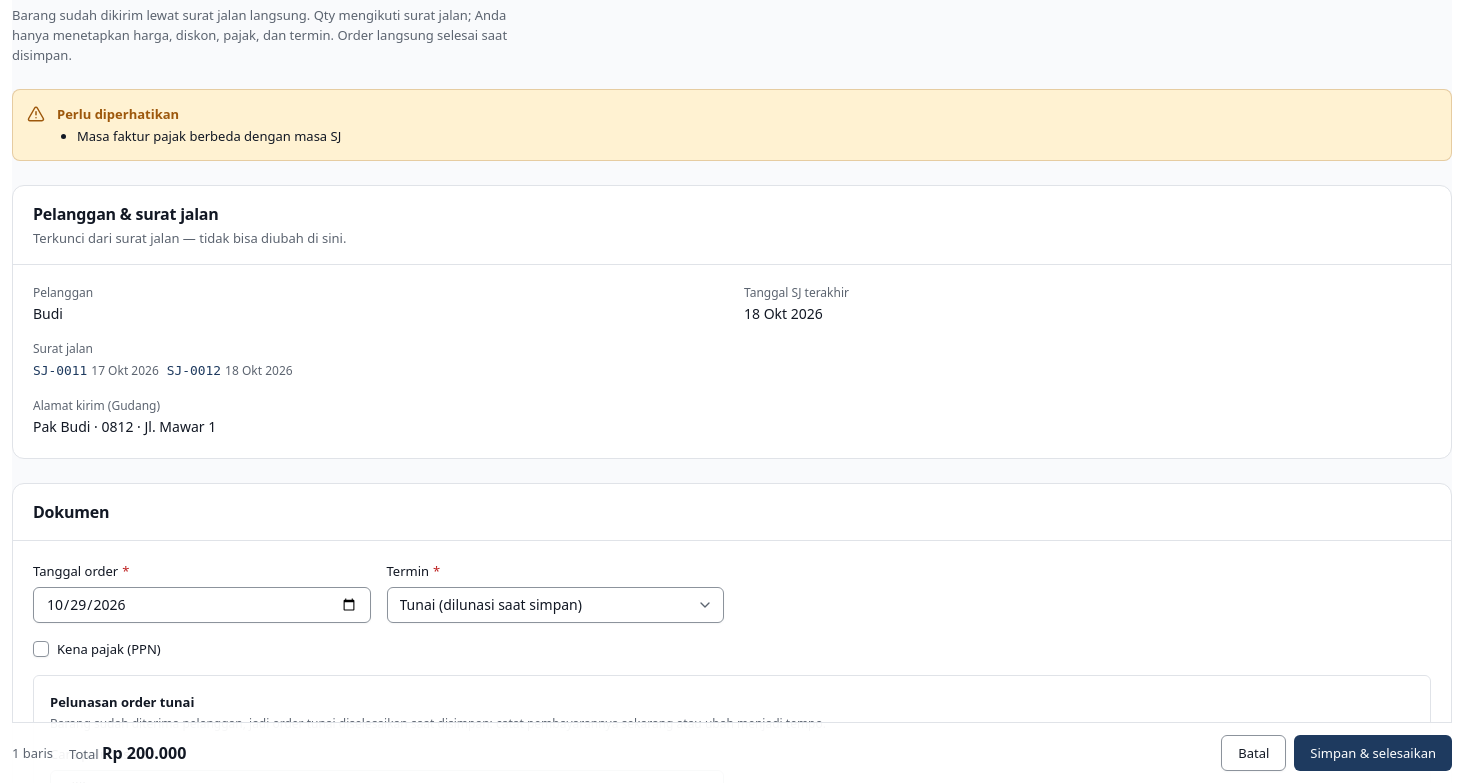
Test: form order jual — mode dari surat jalan (ADR-0022 W-06) › kena pajak menyarankan tanggal faktur pajak = tanggal SJ
Expected: the text "Budi" is shown, [33,304,63,322]
Click the checkbox named "Kena pajak (PPN)".
click(41, 648)  # box [33,640,49,656]
(page scrolled)
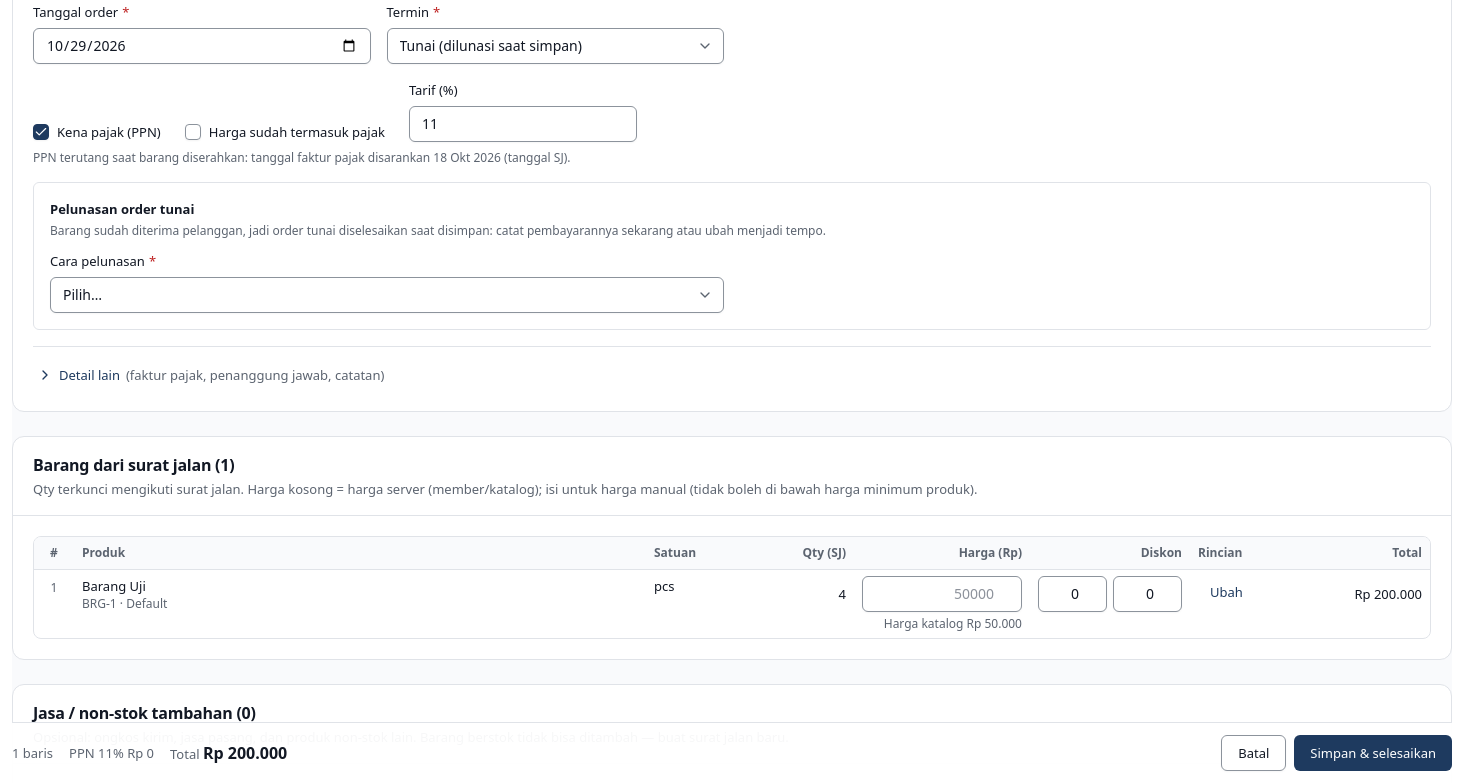
Click the button "Detail lain (faktur pajak, penanggung jawab, catatan)".
click(211, 374)  # box [25,358,396,390]
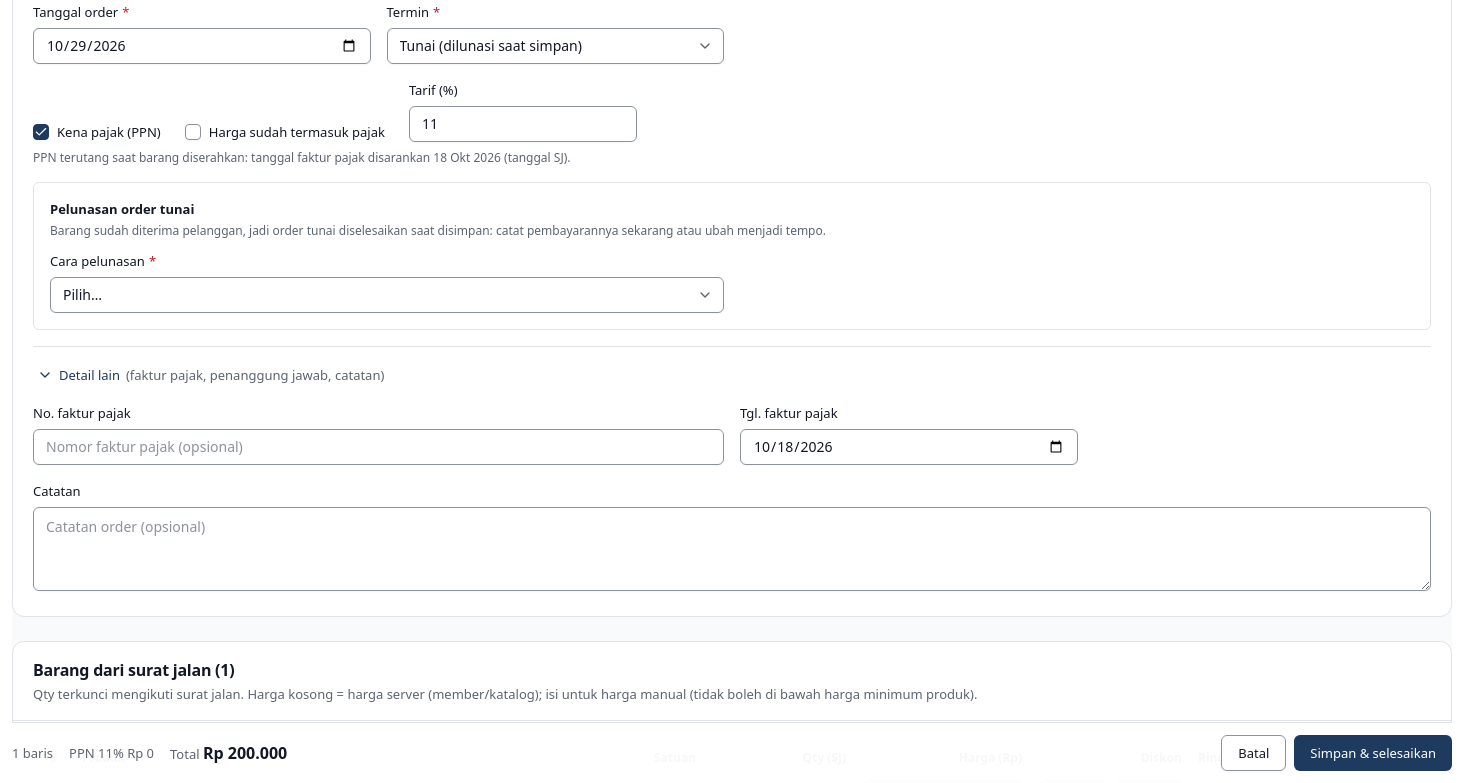
Expected: the date field labelled "Tgl. faktur pajak" holds "2026-10-18", [740,428,1078,464]
